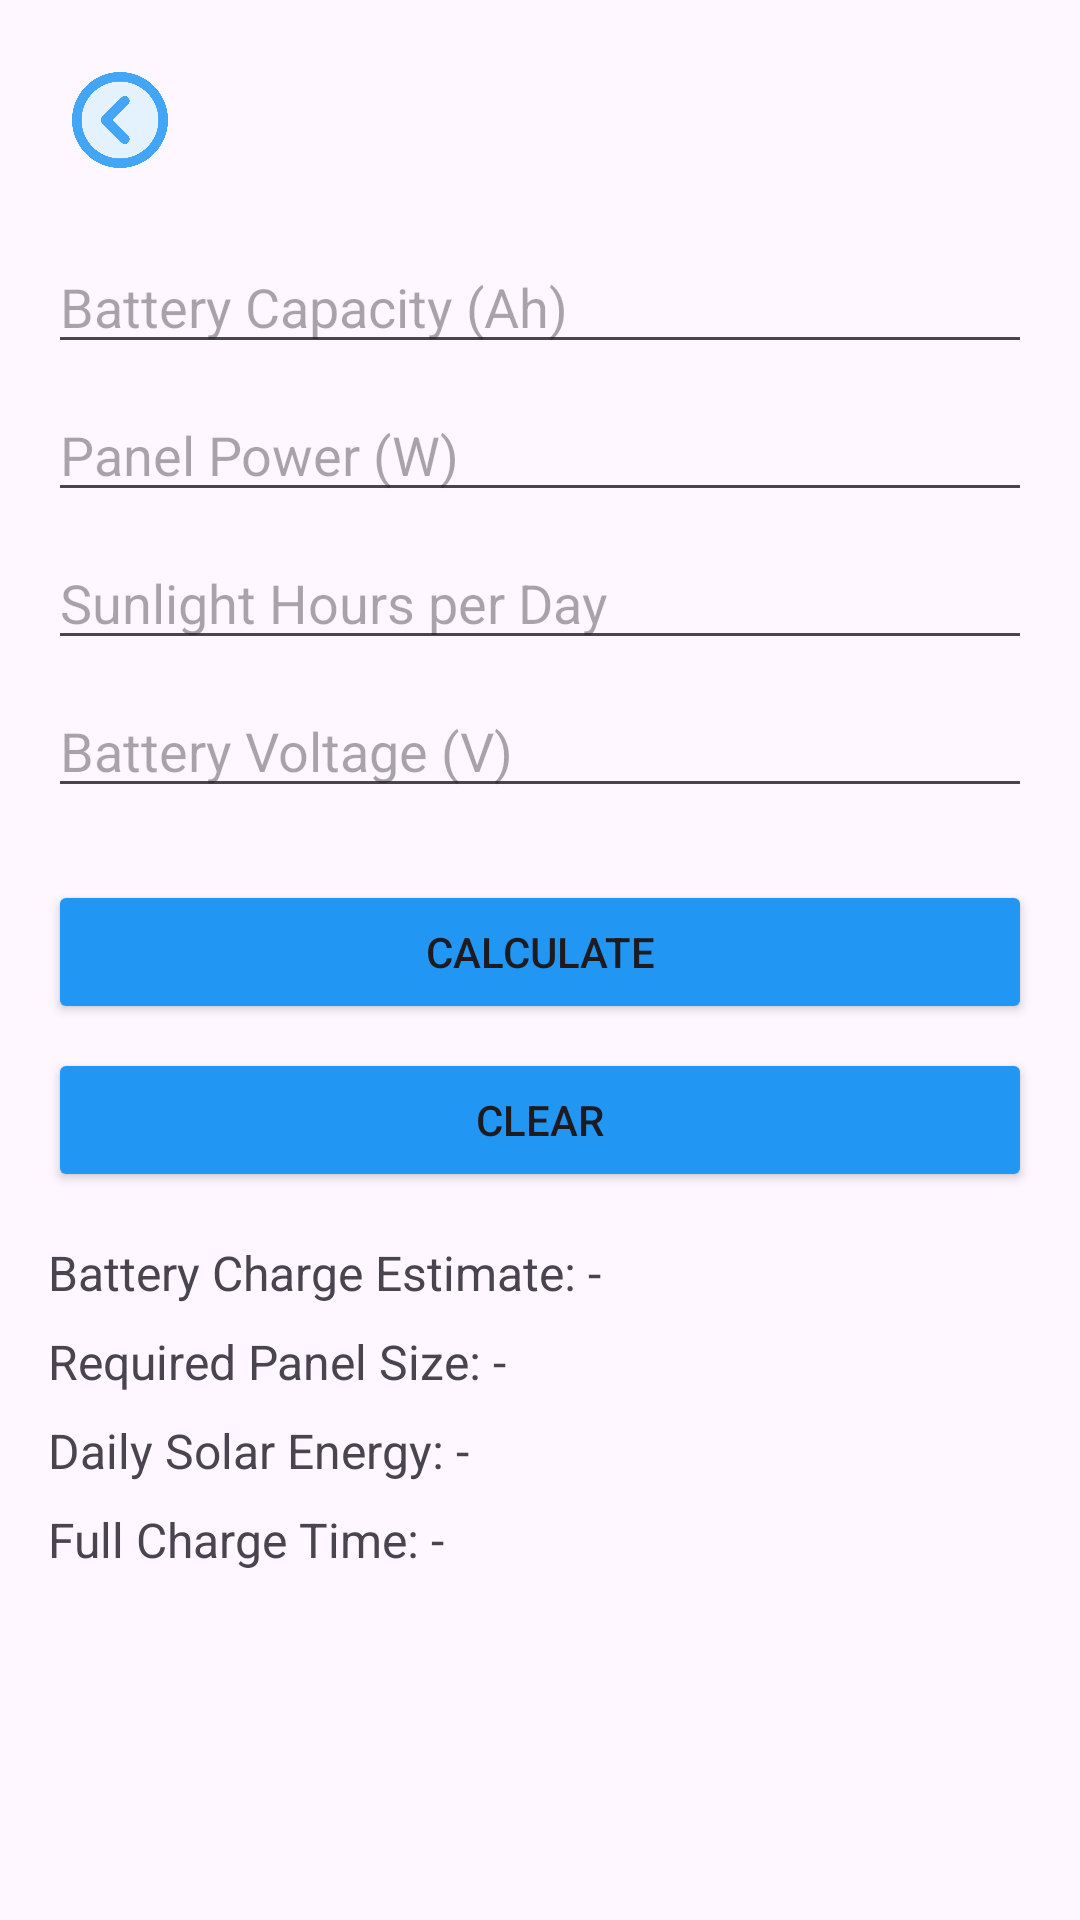

Where icons sit on this 1080 x 1920 app screen, as (x1, y1, x2, y2):
Go Back: (72, 72, 168, 168)
